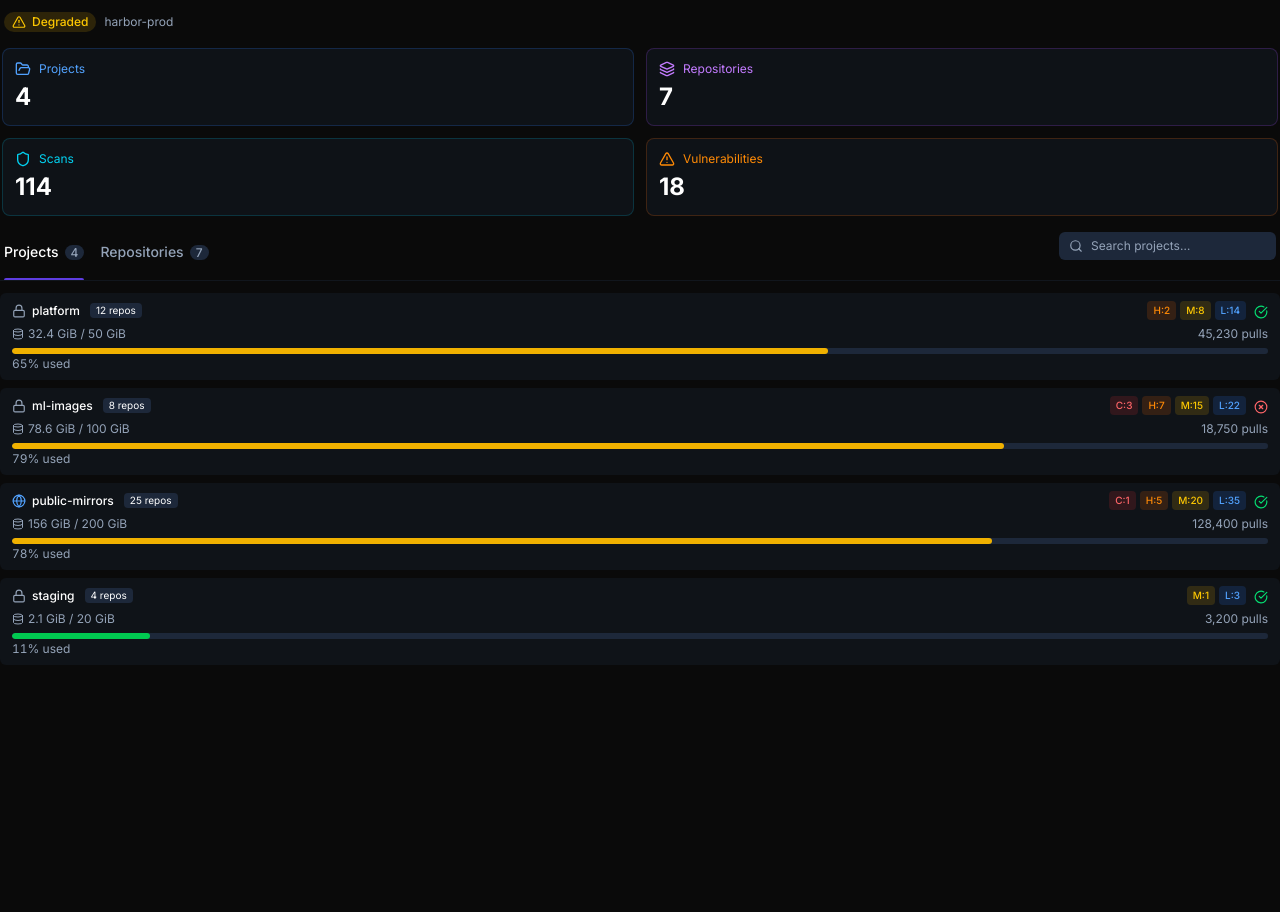
HarborStatus › filters projects by search term
The width and height of the screenshot is (1280, 912).
Type "nonexistent-project-xyz" into the field with placeholder "Search projects…" at (1168, 246), box [1059,232,1276,260]
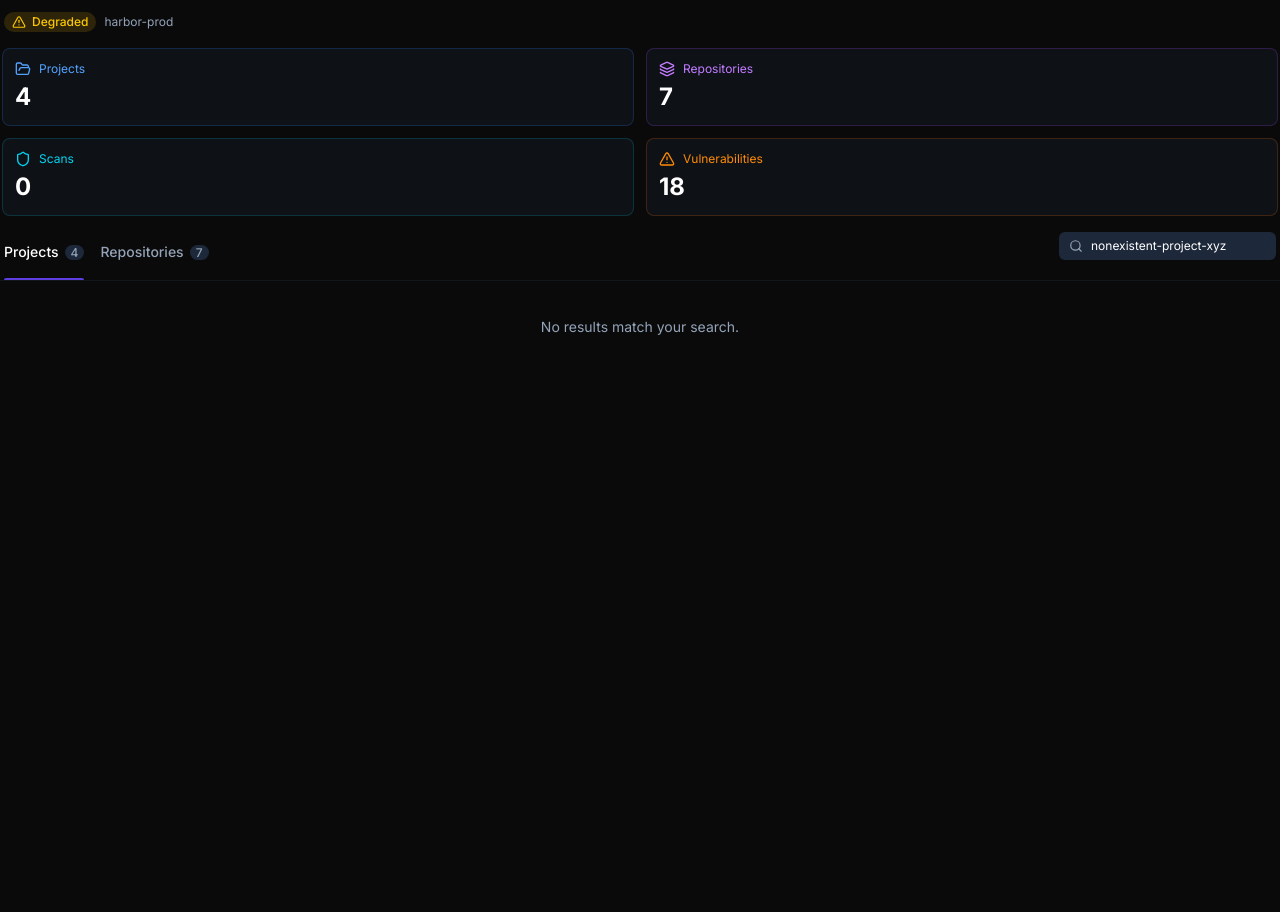
Now the text "No results match your search." is shown, box [541,318,739,335]
